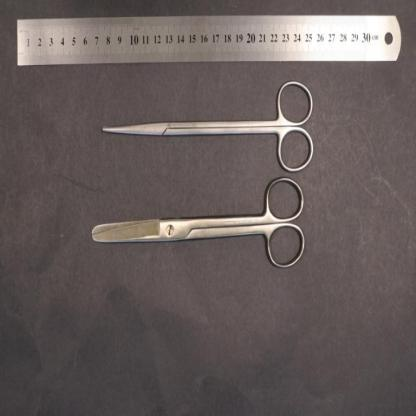7 Metzenbaum Scissors: (102, 80, 316, 174)
Dressing Scissors: (92, 173, 307, 270)
